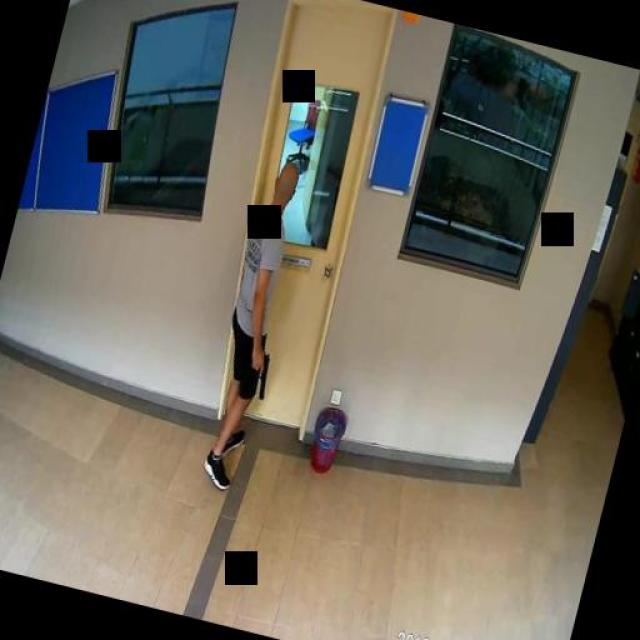gun: (244, 348, 274, 398)
